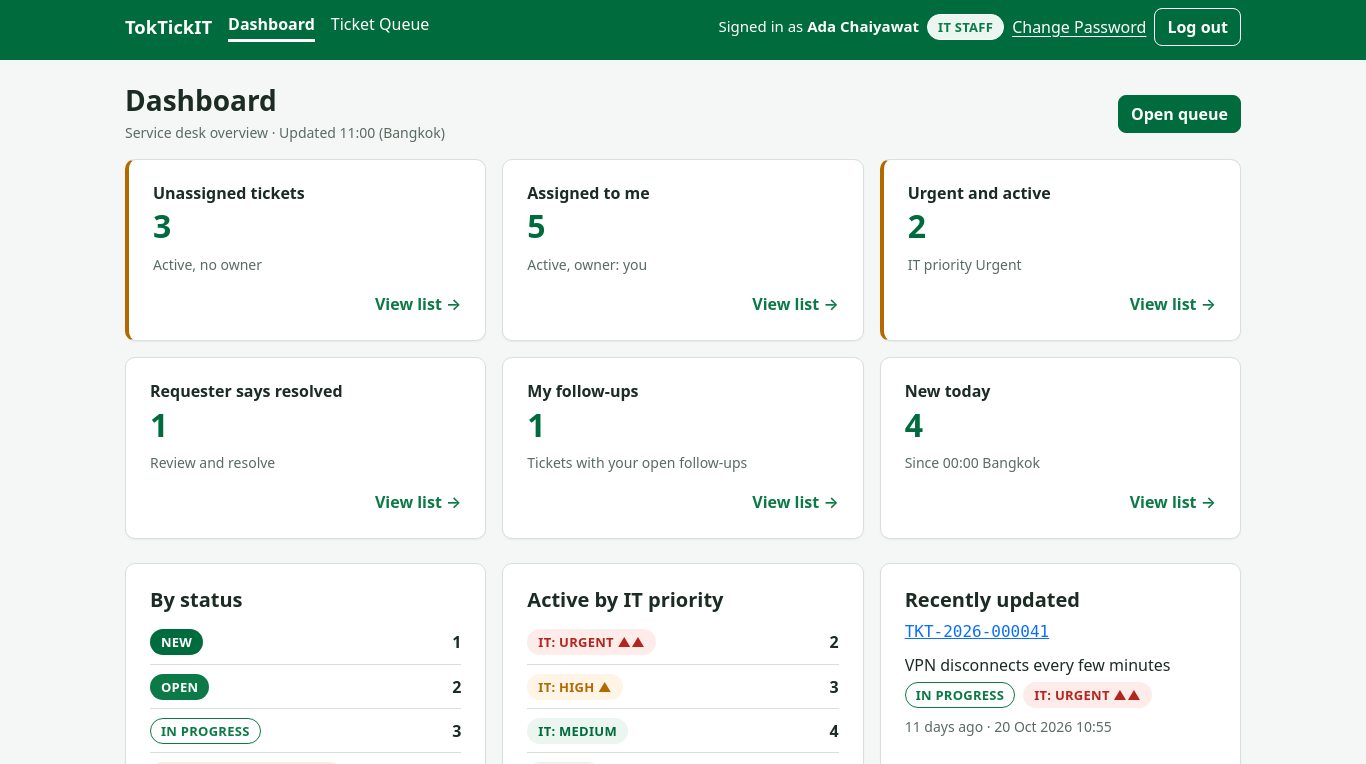
Scenario: UI-30 drill-down destinations open with their filters applied and visible (AC-37, FR-23) › a dashboard card opens its list with the card named in the Showing line
Click the link with aria-label "Unassigned tickets: 3. View list" at (229, 193), box 125,159 -> 486,341
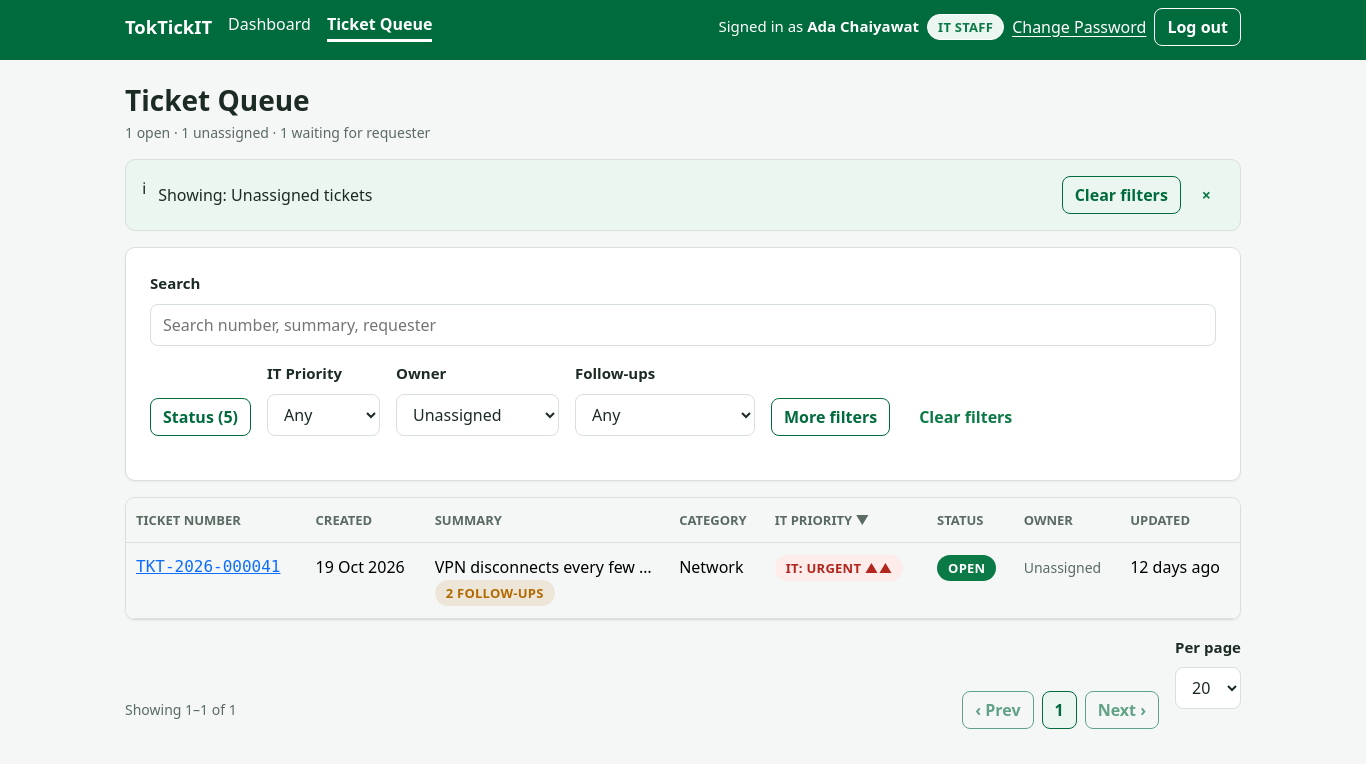
Expected: the heading "Ticket Queue" is shown, 125,81 -> 310,119
Expected: the text "Showing: Unassigned tickets" is shown, 158,183 -> 372,208
Expected: the dropdown labelled "Owner" shows "Unassigned", 396,394 -> 559,436
